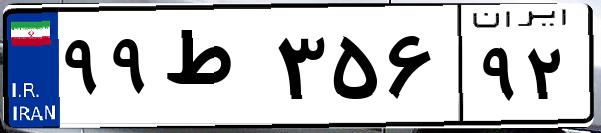2: (525, 38, 570, 115)
3: (270, 28, 330, 110)
5: (330, 28, 385, 110)
6: (385, 28, 445, 110)
9: (57, 26, 110, 100), (475, 38, 525, 113), (110, 28, 158, 98)
ط: (158, 20, 270, 120)
